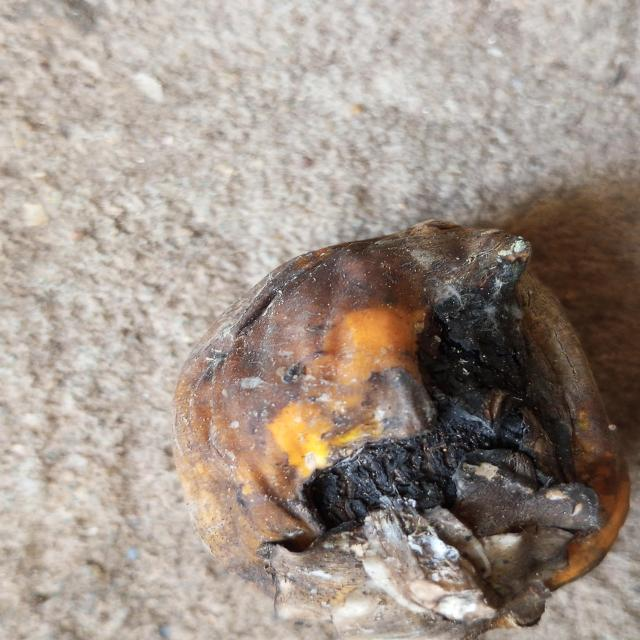damaged: (175, 221, 627, 625)
